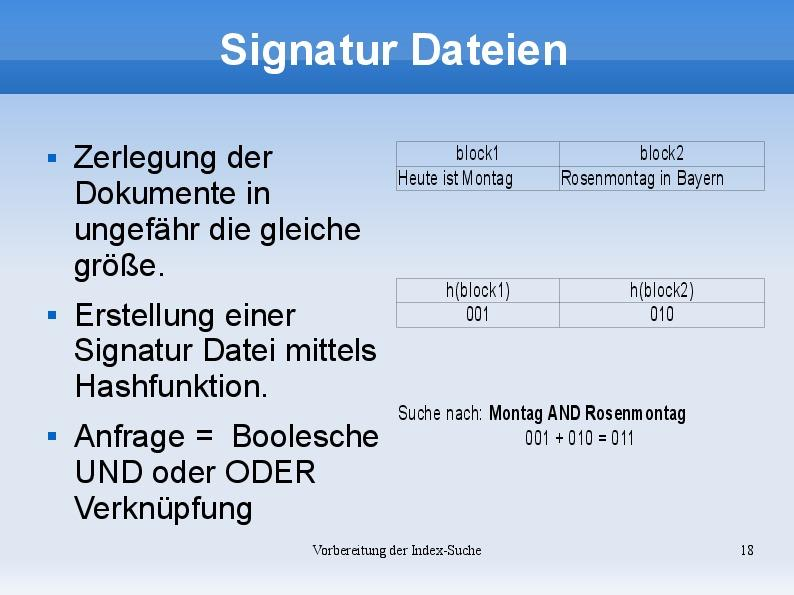paragraph: (23, 113, 777, 543)
title: (212, 22, 574, 79)
